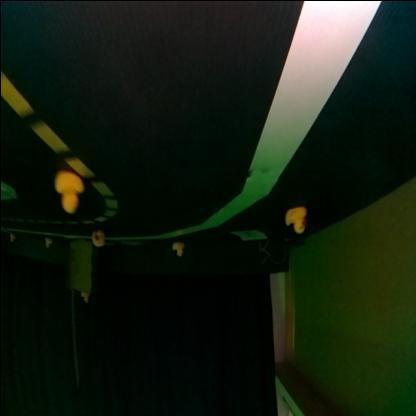Duckie: (52, 172, 82, 212), (283, 206, 305, 234), (90, 230, 104, 247), (171, 242, 183, 256), (80, 292, 88, 302), (44, 238, 50, 247), (8, 234, 14, 242)
